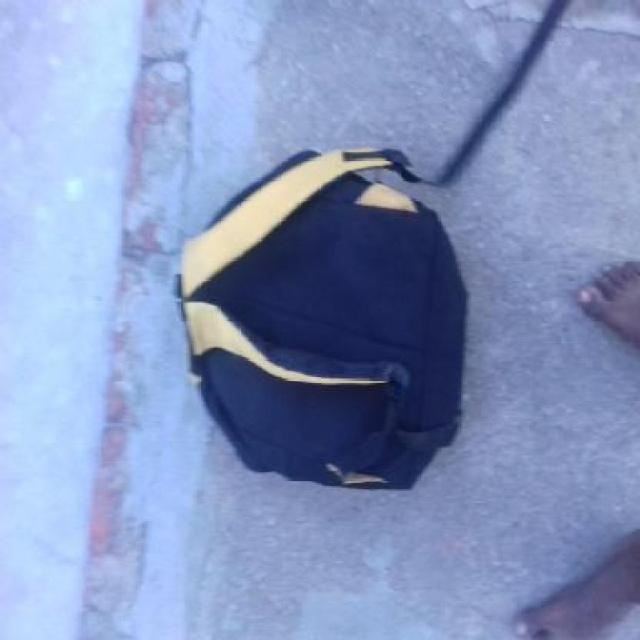backpack: (171, 138, 472, 497)
